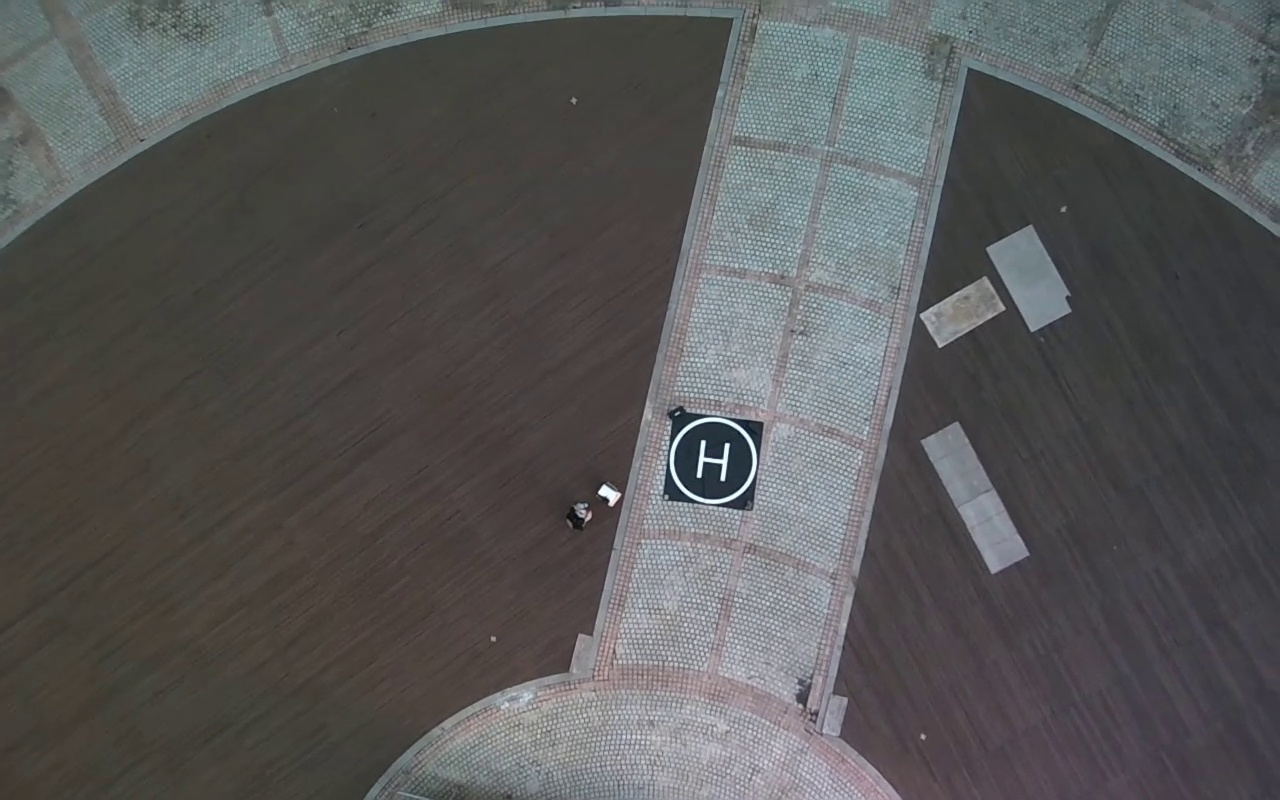H: (694, 439, 730, 483)
heliport: (667, 416, 757, 504)
